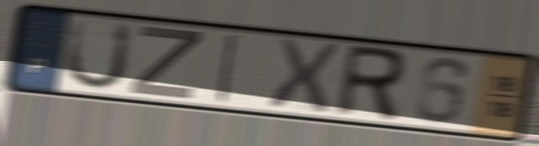6: (412, 55, 470, 126)
I: (213, 31, 242, 106)
R: (331, 42, 408, 125)
U: (61, 17, 136, 92)
X: (264, 35, 343, 115)
Z: (126, 23, 205, 102)
